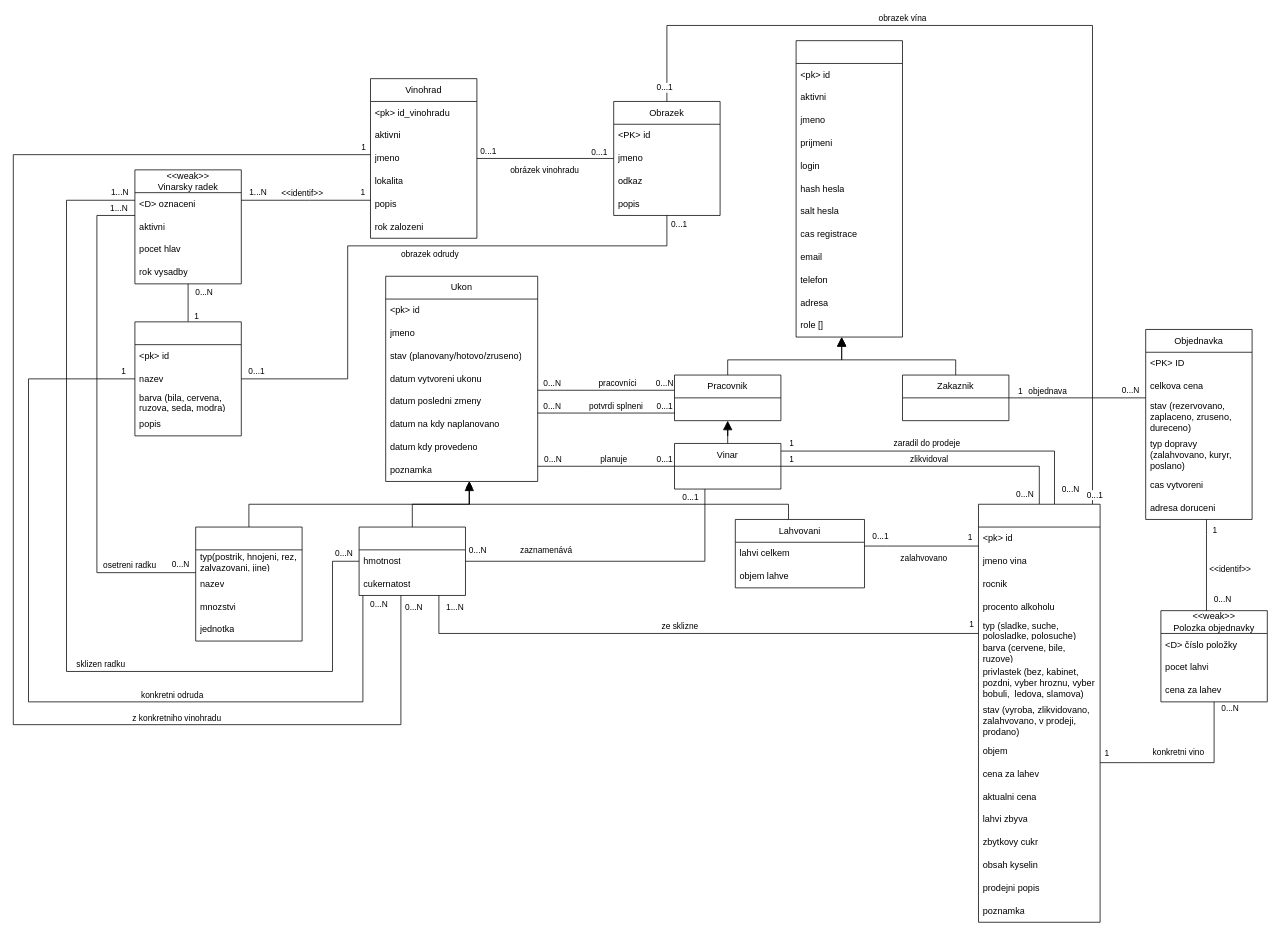
This 1281x936 diagram has some shape labels left out. Here are the shapes that lost their labels. From the top down, the box of each, then its label:
(795, 40, 902, 337): Uzivatel
(134, 321, 241, 436): Odruda
(358, 526, 466, 595): Sklizen
(195, 526, 302, 641): Ošetření
(978, 504, 1100, 922): Vino
